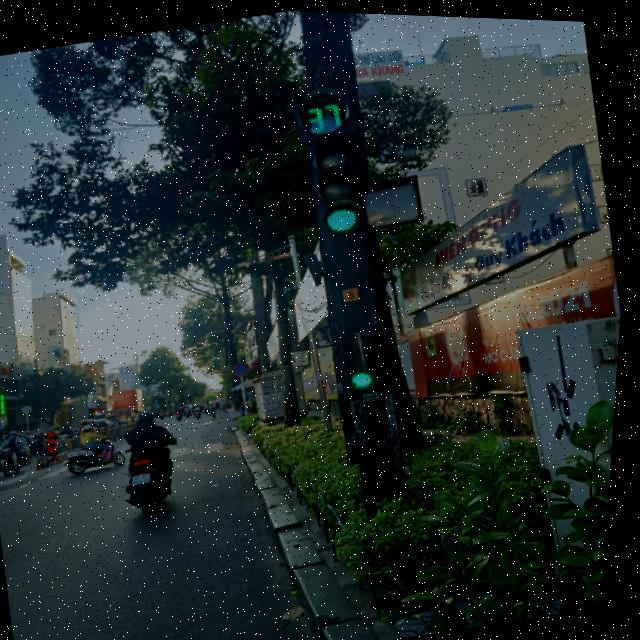Green: (297, 127, 384, 240), (333, 322, 399, 400)
